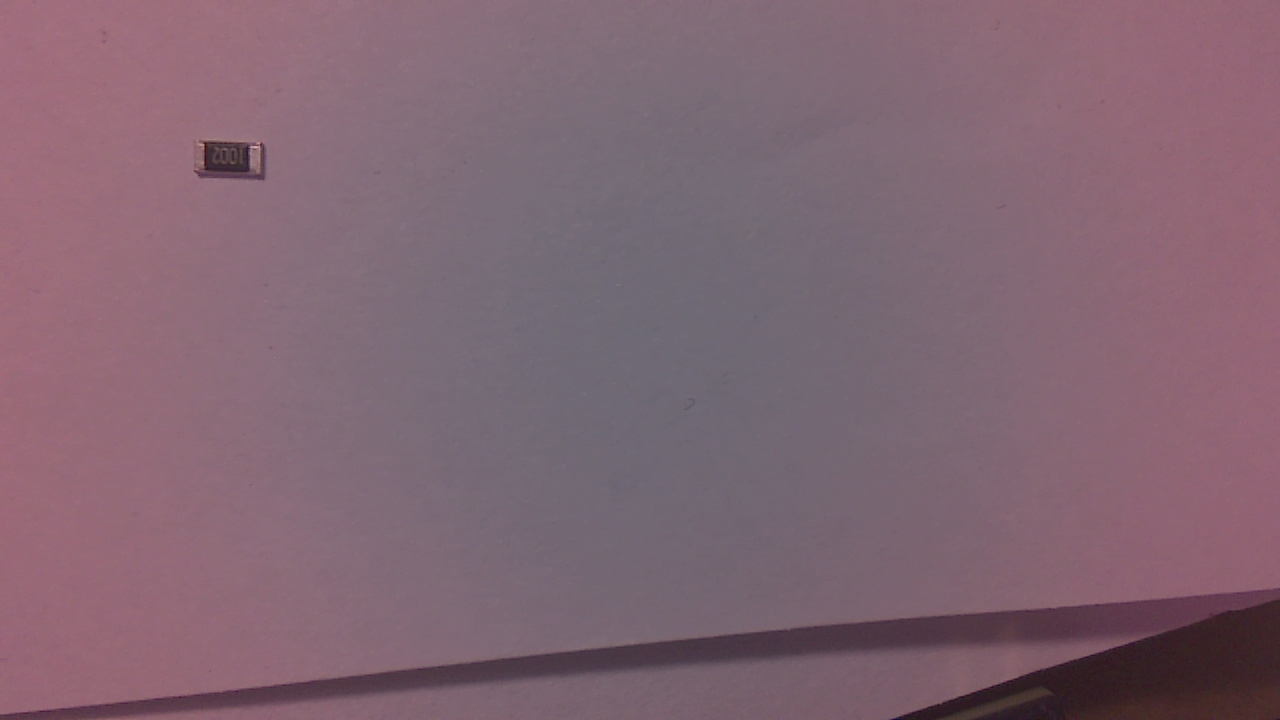Resistor: (196, 143, 271, 185)
